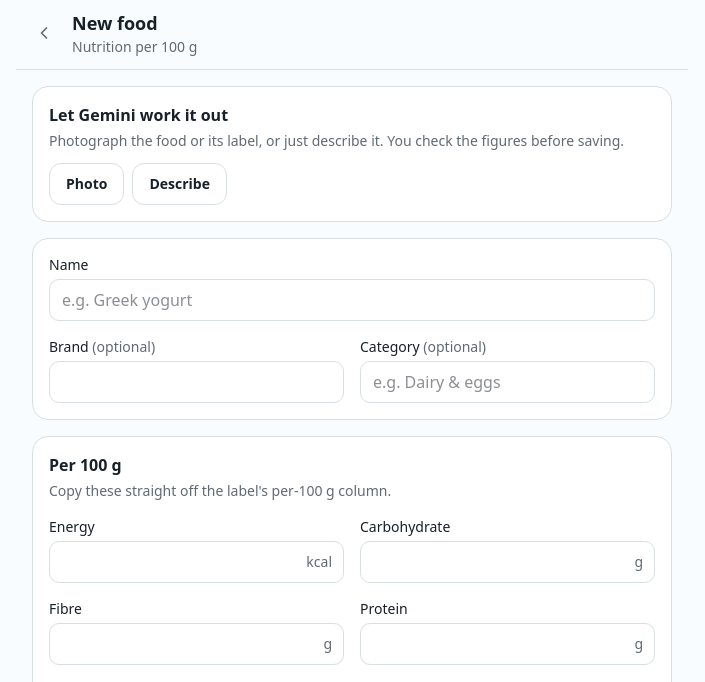
Test case: FoodEditPage — new food › blocks saving when saturated fat exceeds total fat
Step 1. Type "Butter" into the field labelled "Name" → (352,300), box [49,279,655,321]
(page scrolled)
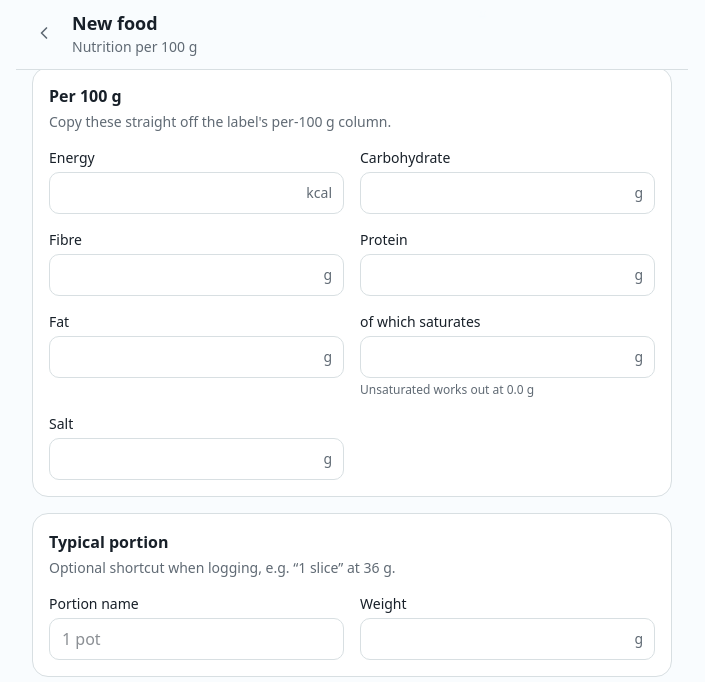
Step 2. Type "10" into the number field labelled "Fat" → (196,357), box [49,336,344,378]
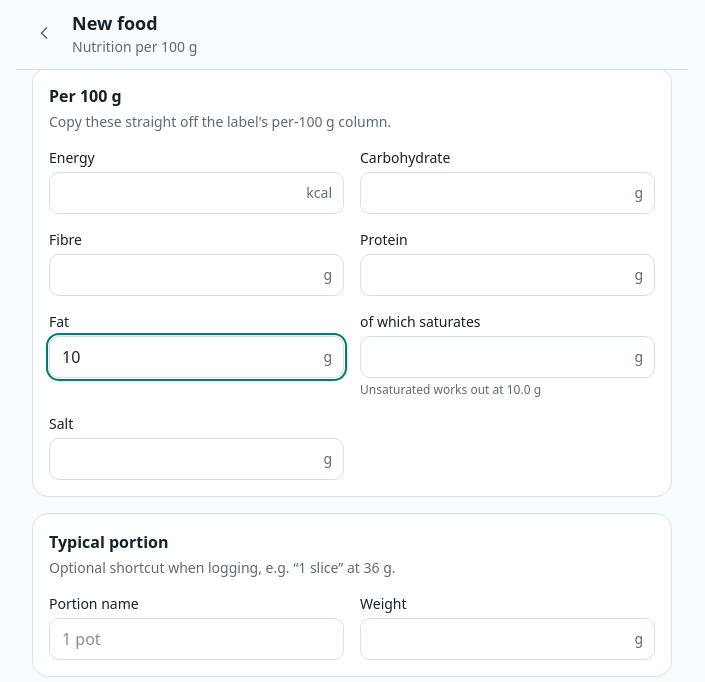
Step 3. Type "30" into the number field labelled "of which saturates" → (508,357), box [360,336,655,378]
(page scrolled)
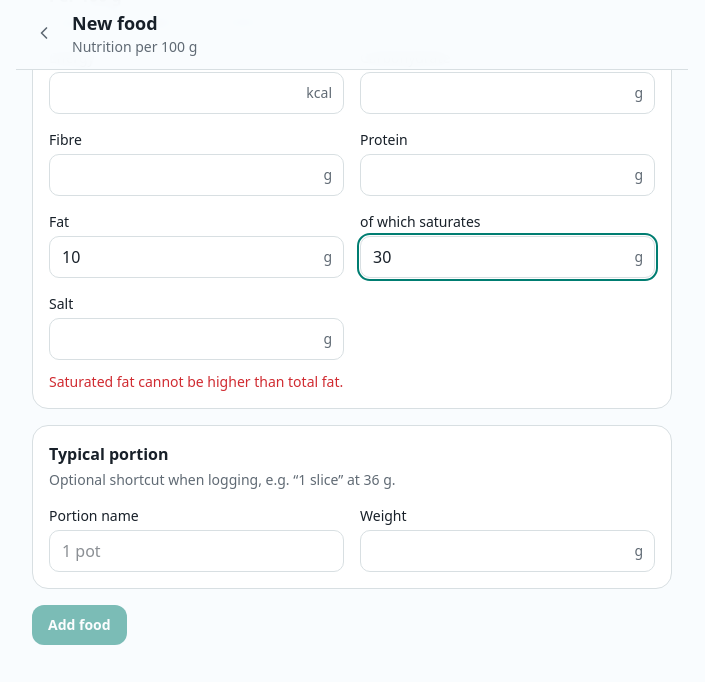
Expected: the text "Saturated fat cannot be higher than total fat." is shown, [49,372,343,391]
Expected: the button "Add food" is disabled, [32,605,127,645]
